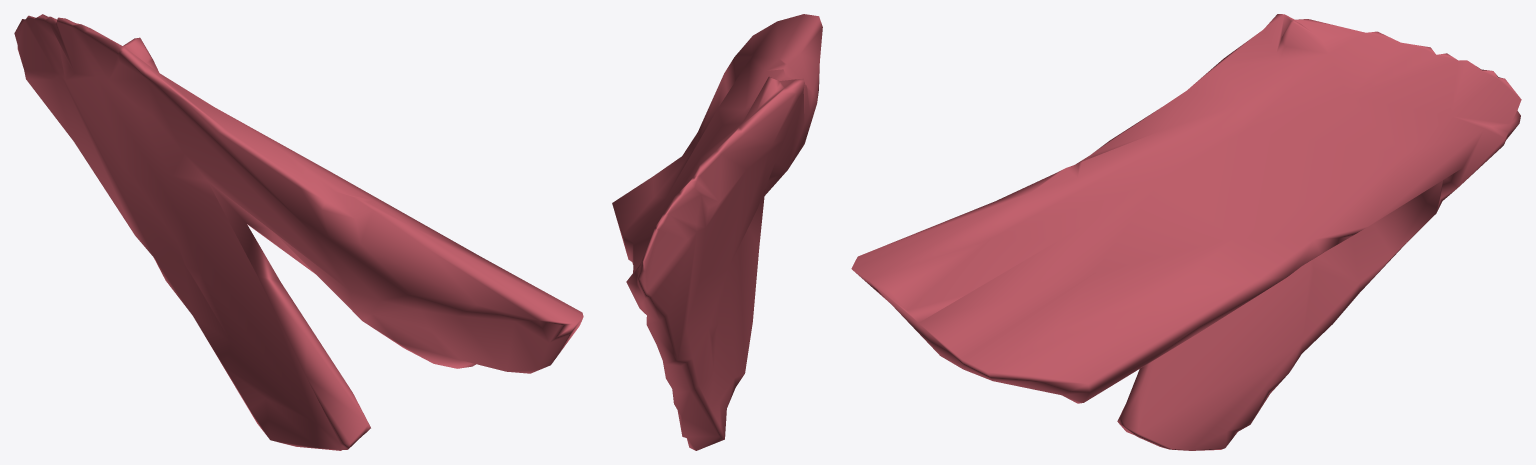
The picture shows the model from 3 angles, left to right: view 1: azimuth 30°, elevation 25°; view 2: azimuth 150°, elevation 25°; view 3: azimuth 270°, elevation 25°; orthographic projection. The views are drawn at different scales.
Visible parts, largest first — view 1: 右侧翼内肌; view 2: 右侧翼内肌; view 3: 右侧翼内肌.
Part boxes in pixels (x1,y1,x2,y2): 右侧翼内肌: [14, 14, 583, 450]; 右侧翼内肌: [612, 14, 822, 450]; 右侧翼内肌: [851, 14, 1521, 450].
Size of the model in its own units: 0.0331 by 0.0452 by 0.0725.
